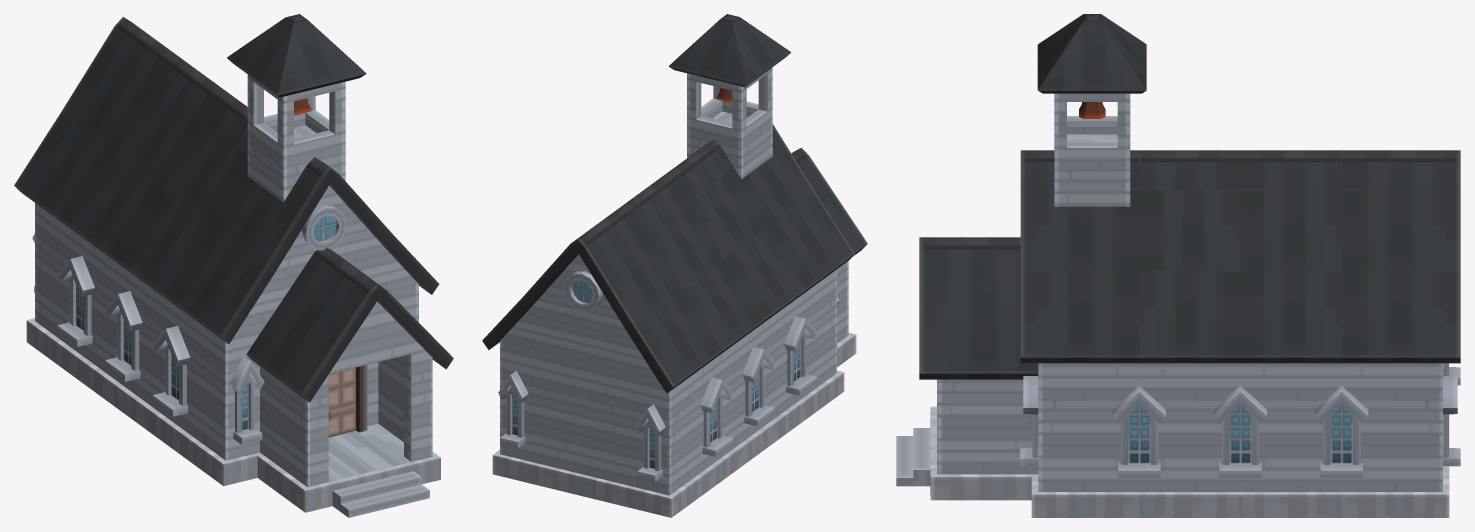
The model's file is church_v004.fbx.
3 views of the same model, side by side, from view 1: azimuth 30°, elevation 25°; view 2: azimuth 150°, elevation 25°; view 3: azimuth 270°, elevation 25° (orthographic). The views are drawn at different scales.
Visible parts, largest first — view 1: church_v004; view 2: church_v004; view 3: church_v004.
Part boxes in pixels (<box>): church_v004: <box>14,14,453,517</box>; church_v004: <box>482,14,867,517</box>; church_v004: <box>896,14,1460,517</box>.
Bounding box in the file's own units: 540 × 982 × 1116.
